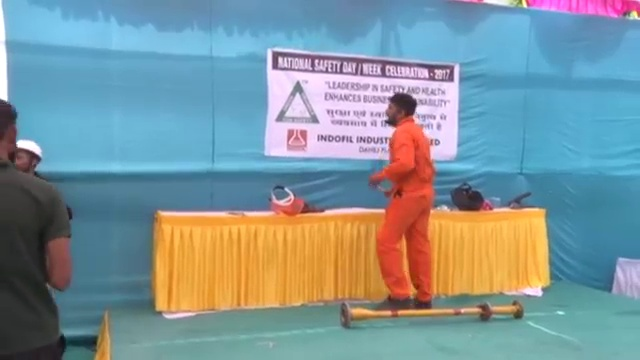helmet: (13, 138, 43, 163)
helmet_off: (1, 98, 16, 167), (386, 93, 418, 125)
helmet_on: (11, 138, 43, 174)
person: (1, 97, 73, 357), (371, 93, 441, 313)
